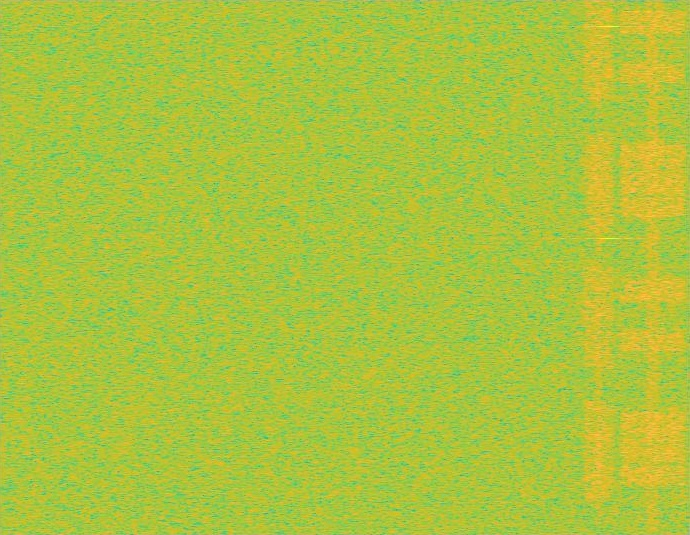5G: (581, 0, 616, 534)
DSSS: (645, 0, 661, 534), (596, 0, 601, 534)
LTE: (618, 0, 687, 534)
Radar: (602, 0, 616, 534)
